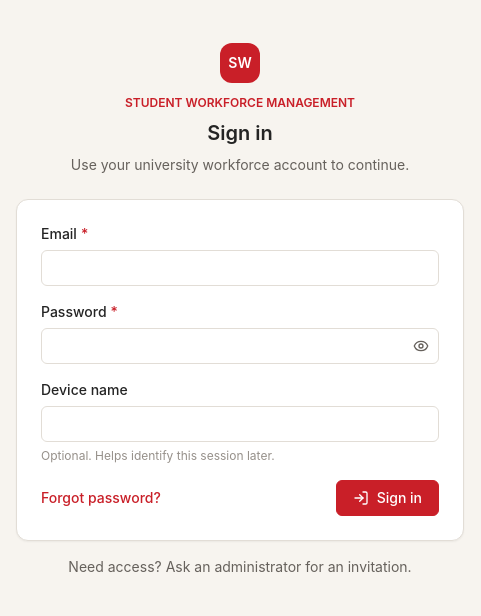
auth pages › shows enumeration-safe login failure text
Step 1. Type "missing@example.edu" into the field labelled "Email*" → (240, 268), box [41,250,439,286]
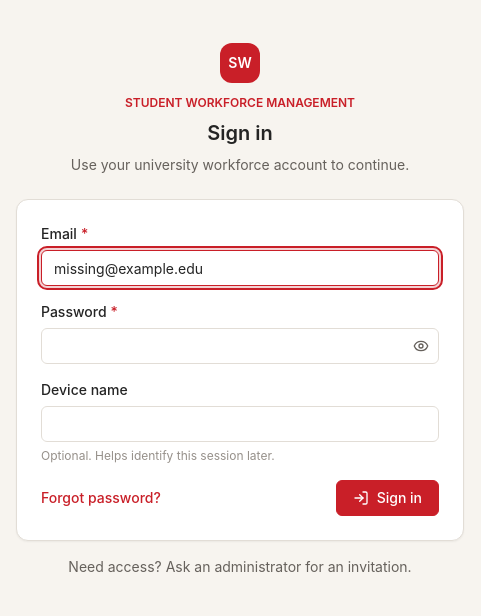
Step 2. Type "Password1" into the password field labelled "Password*" → (240, 346), box [41,328,439,364]
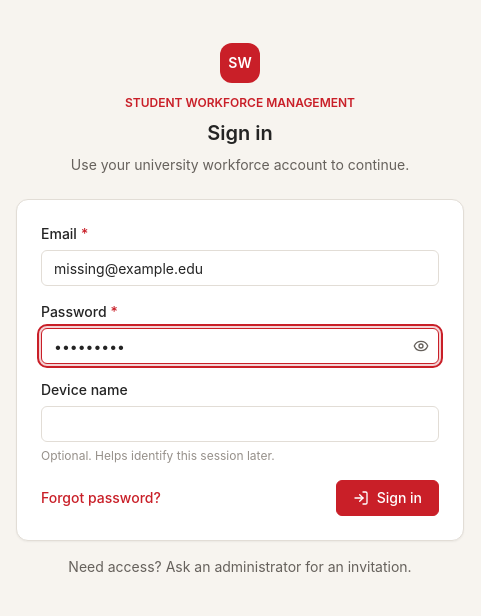
Step 3. Click the button "Sign in" → (387, 498), box [336,480,439,516]
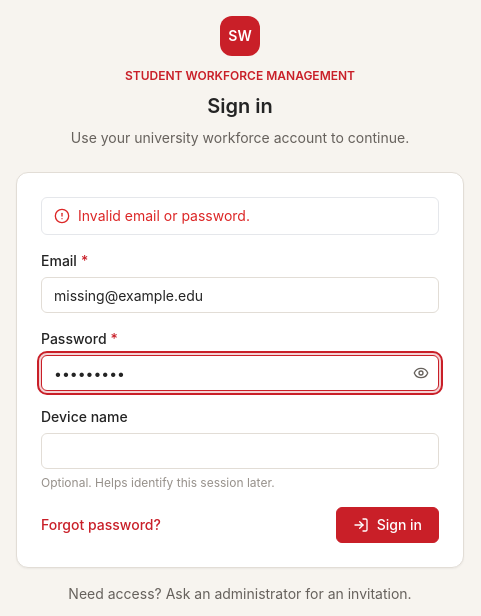
Result: the text "Invalid email or password." is shown at [78,206,250,226]
